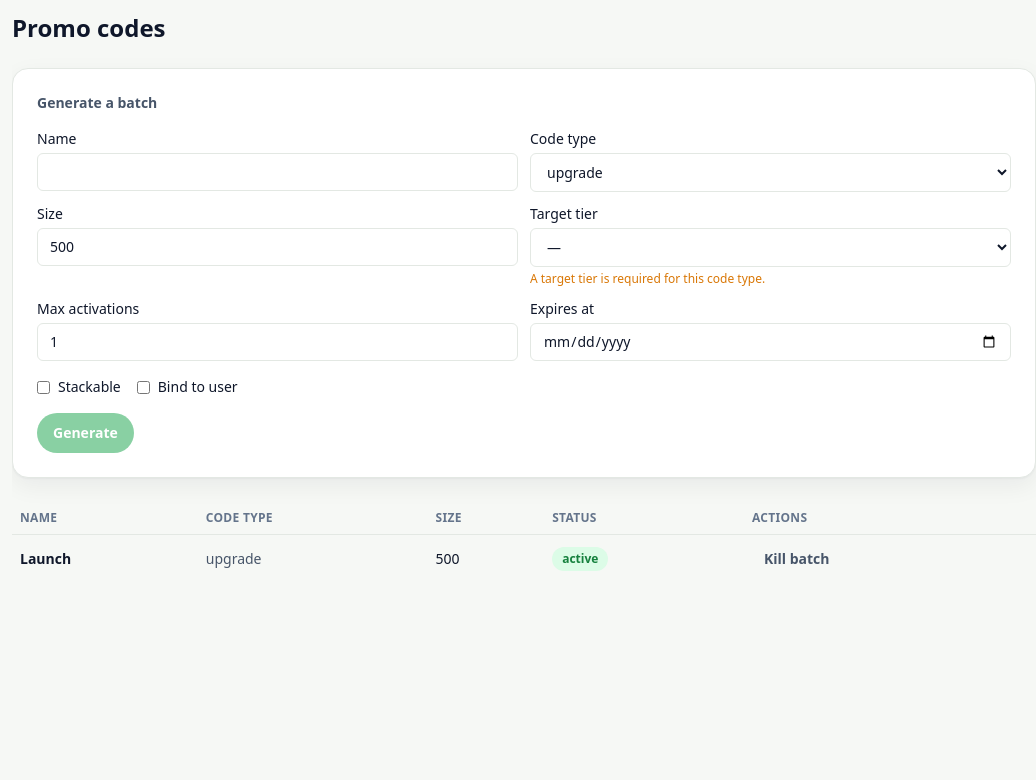
Test: PromoView › hides the value field for upgrade codes and shows it otherwise
The width and height of the screenshot is (1036, 780).
Check: the field labelled "Value" is not shown
Select "percent" in the dropdown labelled "Code type" at coordinates (770, 172), box [530,153,1011,192]
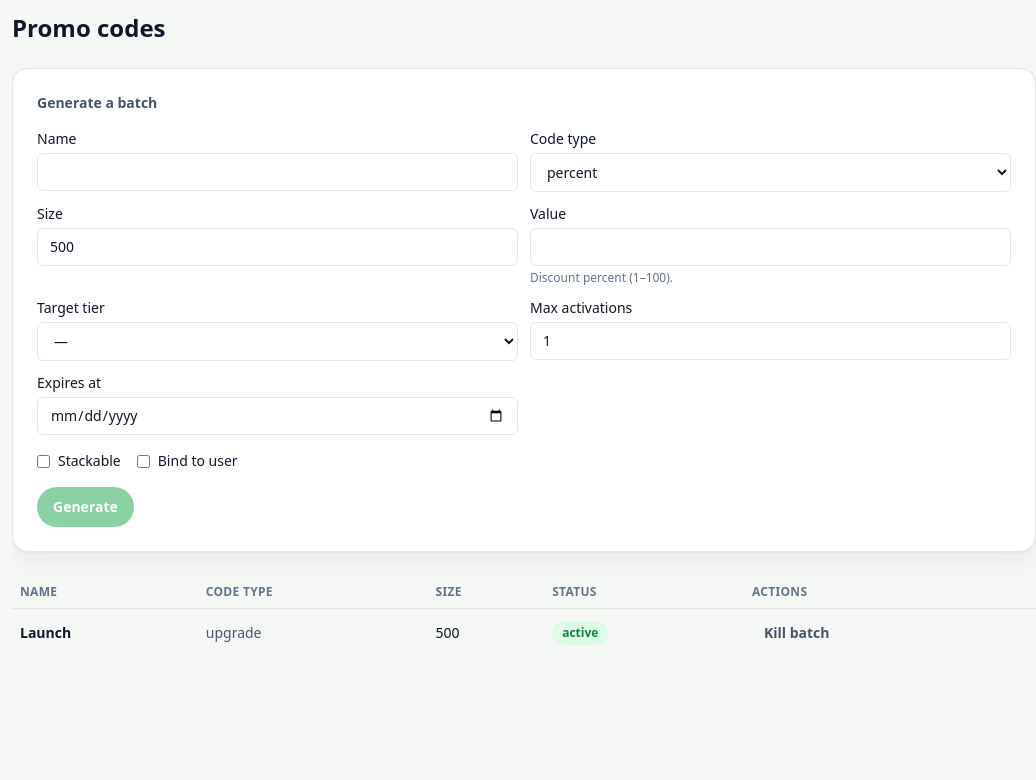
Check: the number field labelled "Value" is shown, box [530,228,1011,266]
